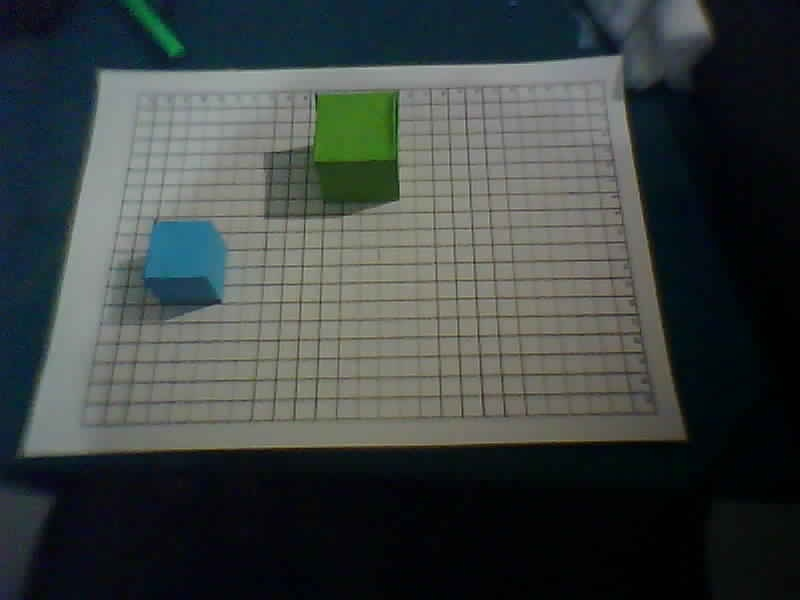LB: (78, 423, 86, 429)
LT: (135, 92, 143, 98)
RB: (652, 411, 660, 417)
RT: (600, 80, 608, 86)
